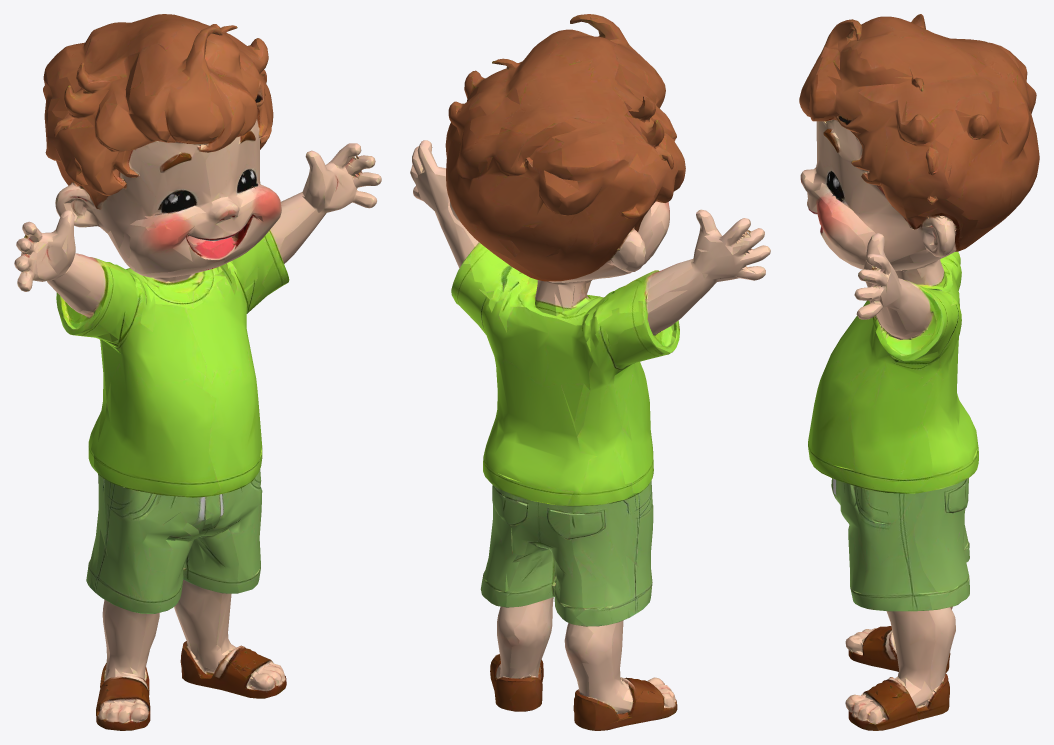
File: char_rocco.glb
The picture shows the model from 3 angles, left to right: view 1: azimuth 30°, elevation 25°; view 2: azimuth 150°, elevation 25°; view 3: azimuth 270°, elevation 25°; orthographic projection. The views are drawn at different scales.
Bounding box in the file's own units: 1.06 × 1.9 × 0.6181.
Materials: 1 (1 with a texture image).
